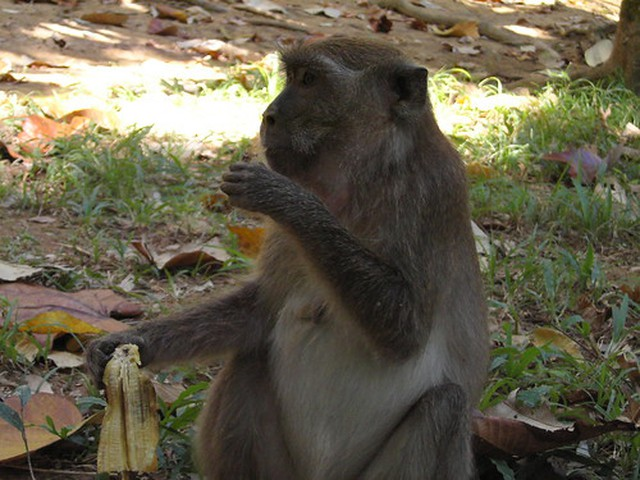Monkey: (91, 30, 500, 480)
